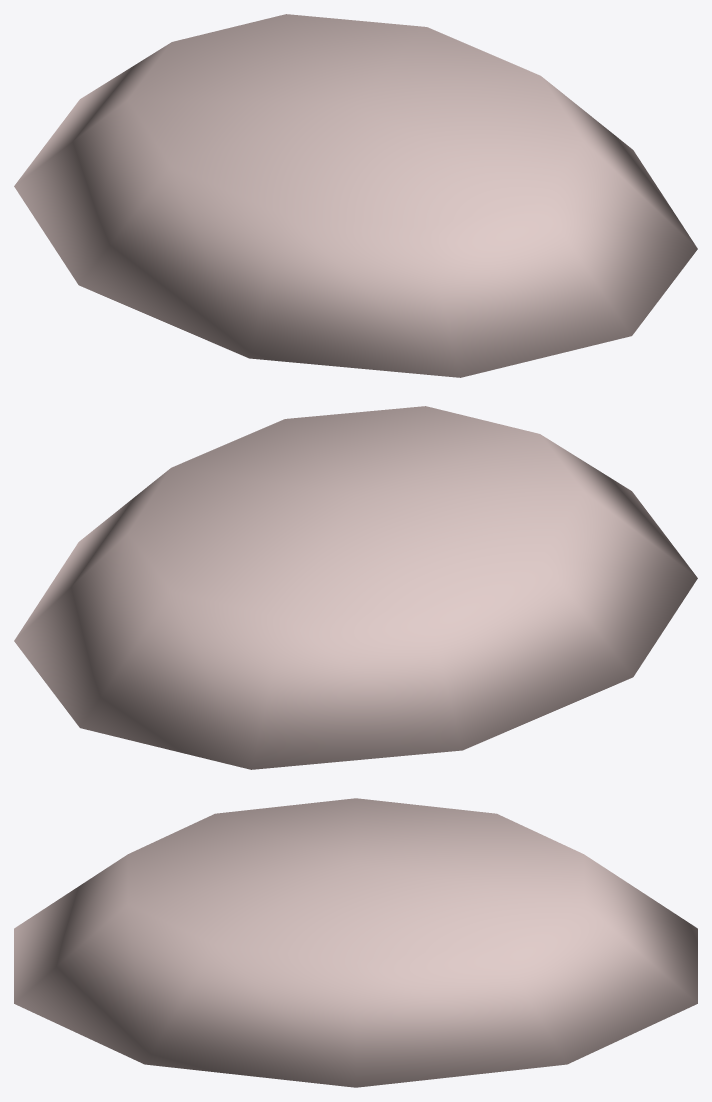
The model's file is shell.glb.
The picture shows the model from 3 angles, top to bottom: view 1: azimuth 30°, elevation 25°; view 2: azimuth 150°, elevation 25°; view 3: azimuth 270°, elevation 25°; orthographic projection. The views are drawn at different scales.
Visible parts, largest first — view 1: Shell_Body; view 2: Shell_Body; view 3: Shell_Body.
Boxes of the visible parts, x1,y1,x2,y2 form: Shell_Body: [14, 14, 697, 377]; Shell_Body: [14, 406, 697, 769]; Shell_Body: [14, 798, 697, 1087].
Bounding box in the file's own units: 0.18 × 0.035 × 0.214.
